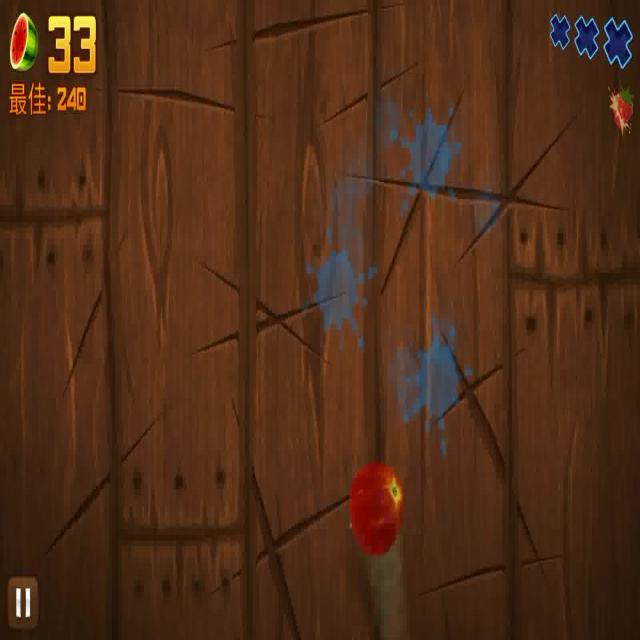fruit: (349, 457, 408, 557)
